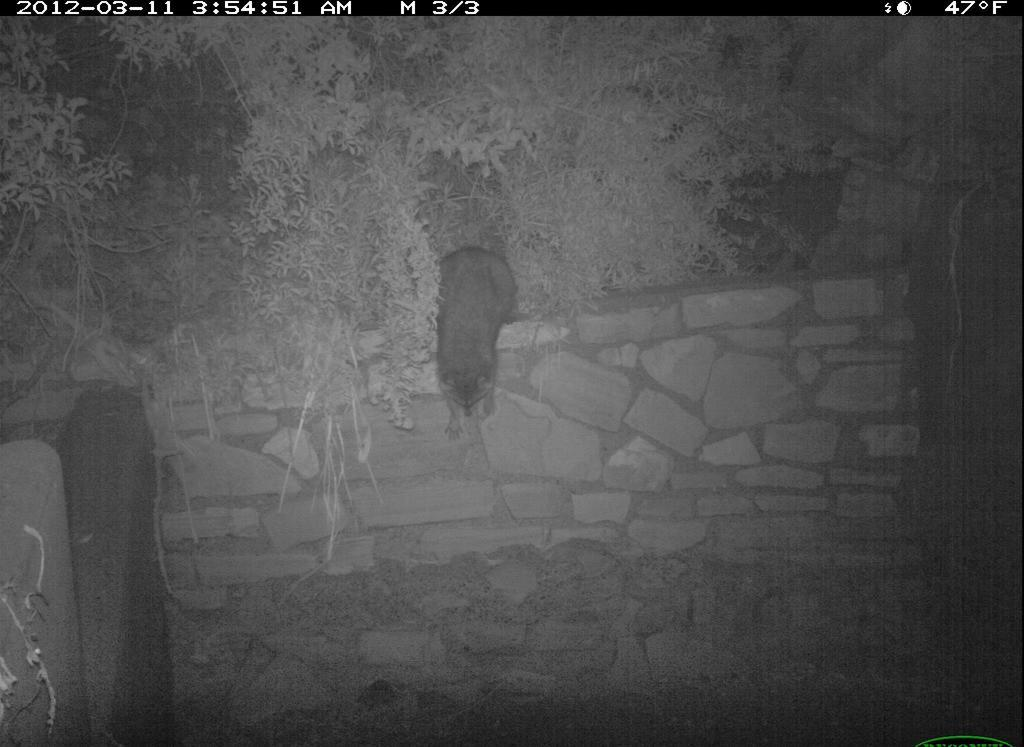raccoon: (429, 235, 529, 429)
